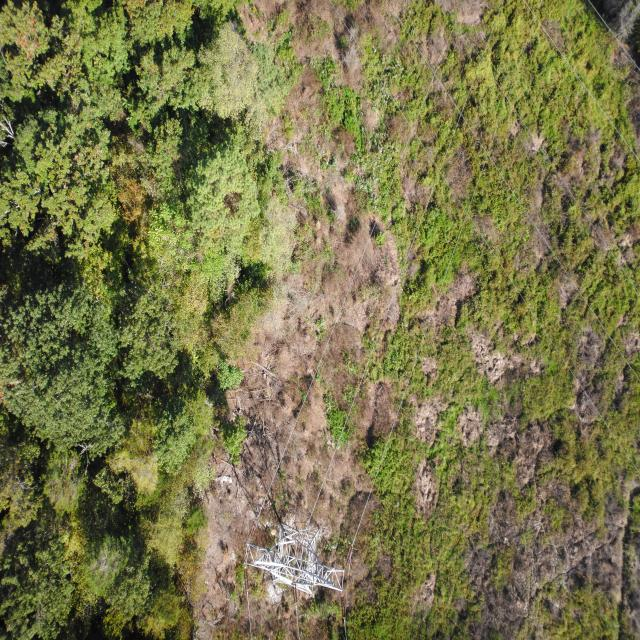Area of Interest: (8, 4, 274, 630)
